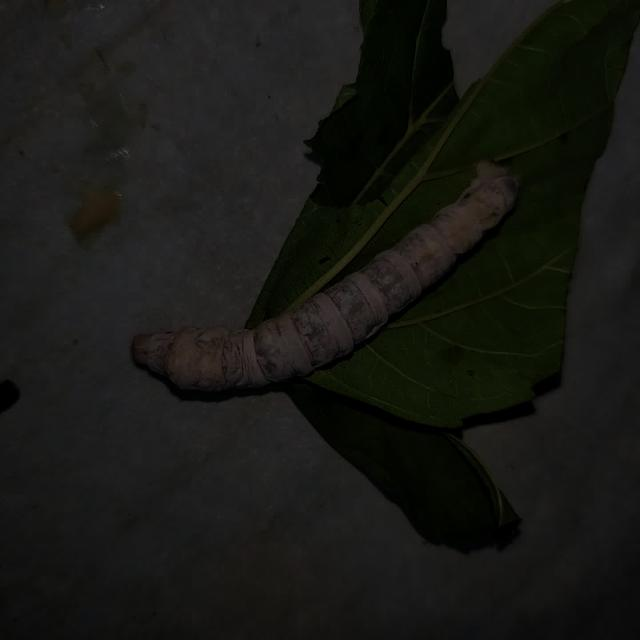Grasserie: (119, 152, 531, 429)
